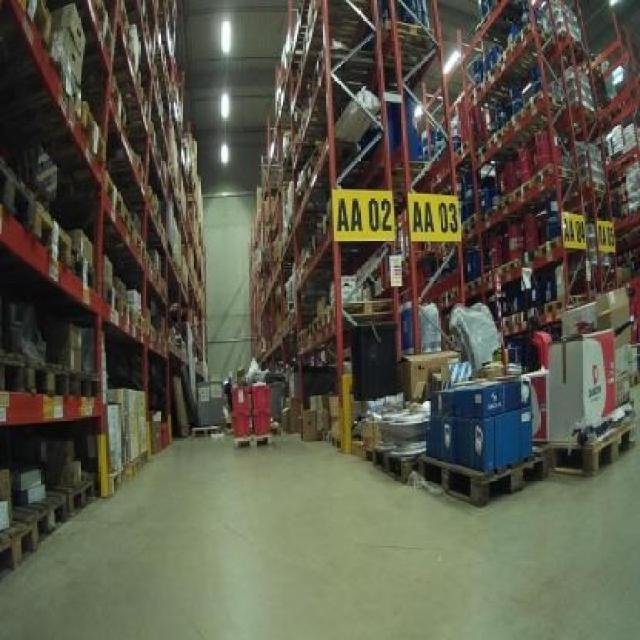floor: (0, 437, 637, 637)
pallets: (417, 378, 543, 503), (426, 378, 529, 469), (231, 383, 268, 443)
